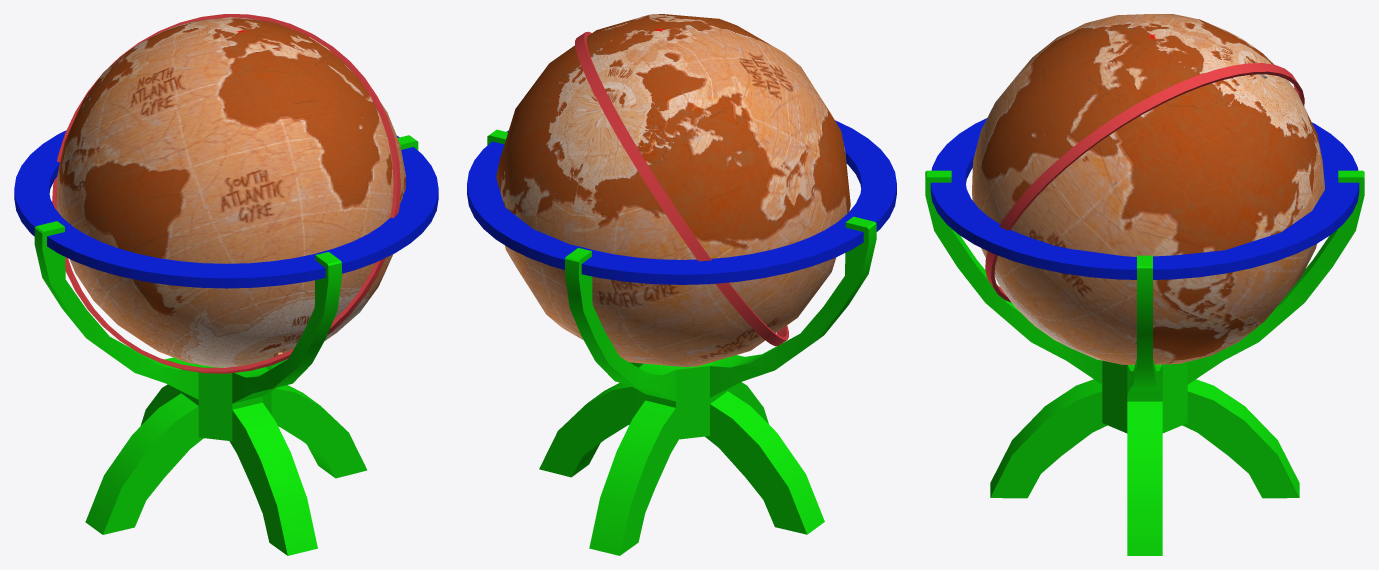
File: TestGlobe.fbx
3 views of the same model, side by side, from view 1: azimuth 30°, elevation 25°; view 2: azimuth 150°, elevation 25°; view 3: azimuth 270°, elevation 25° (orthographic).
Visible parts, largest first — view 1: Globe, Legs, Outer Torus, GlobeSupports, InnerTorus, Base; view 2: Globe, Legs, Outer Torus, GlobeSupports, InnerTorus, Base; view 3: Globe, Legs, Outer Torus, GlobeSupports, InnerTorus, Base.
Boxes of the visible parts, x1,y1,x2,y2 form: Globe: [56, 17, 405, 367]; Legs: [85, 384, 367, 555]; Outer Torus: [14, 130, 438, 288]; GlobeSupports: [34, 135, 418, 403]; InnerTorus: [52, 14, 400, 373]; Base: [181, 363, 271, 441]; Globe: [496, 14, 850, 366]; Legs: [539, 382, 824, 555]; Outer Torus: [467, 120, 896, 284]; GlobeSupports: [487, 129, 876, 401]; InnerTorus: [575, 31, 788, 346]; Base: [636, 361, 727, 439]; Globe: [972, 14, 1324, 364]; Legs: [990, 379, 1299, 555]; Outer Torus: [930, 118, 1359, 279]; GlobeSupports: [925, 170, 1364, 395]; InnerTorus: [985, 63, 1304, 302]; Base: [1102, 360, 1187, 433].
Bounding box in the file's own units: 95.4 × 111 × 95.4.
